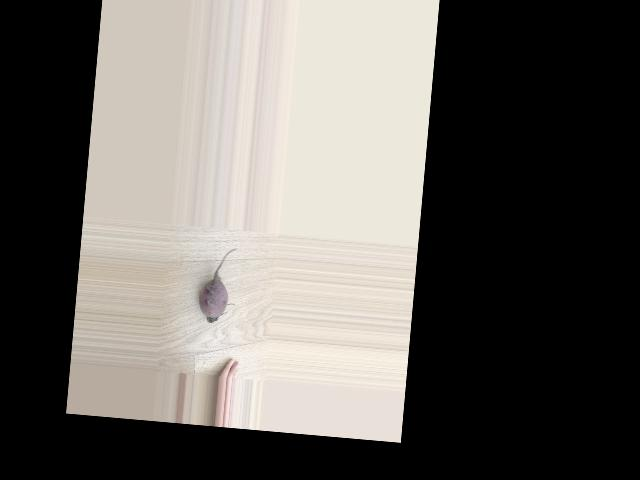beet: (197, 245, 239, 324)
